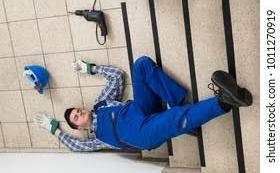fall: (52, 33, 230, 171)
